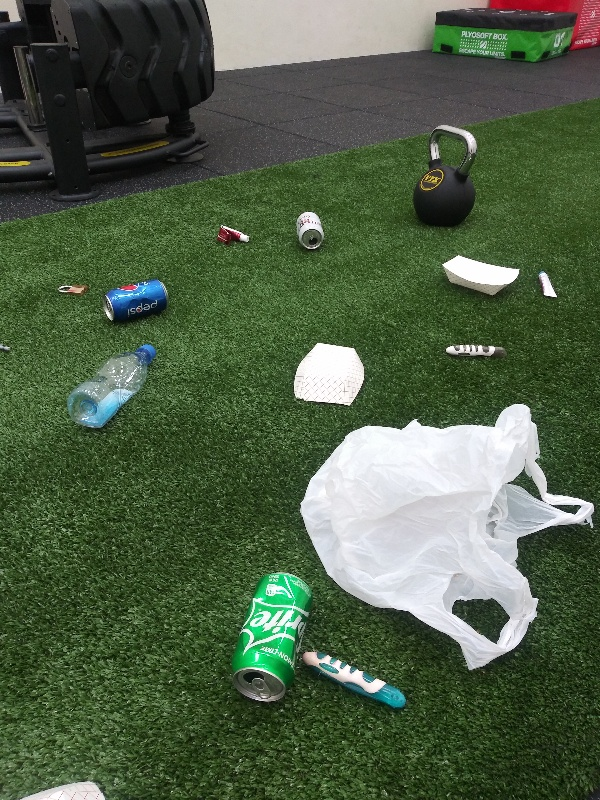bottle: (66, 343, 163, 434)
can: (227, 567, 317, 708), (98, 276, 174, 325), (293, 208, 324, 253)
plate: (290, 339, 370, 411), (434, 253, 524, 299)
